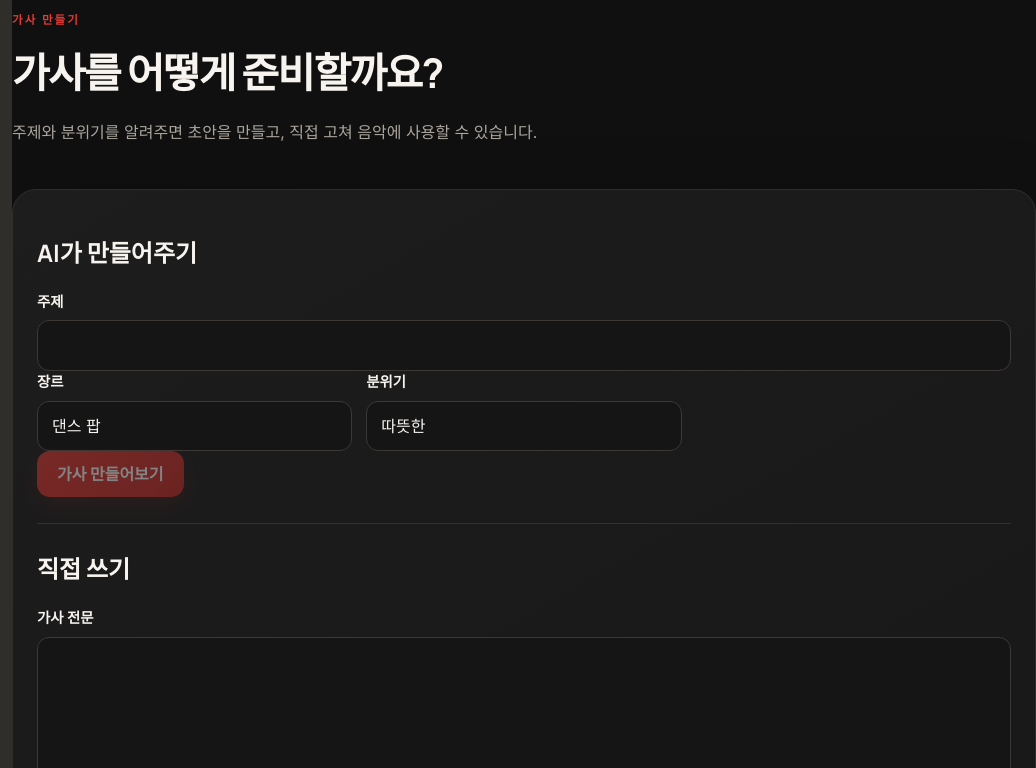
Test: Lyrics Lab 오류와 capability › 삭제 실패 시 문서를 유지하고 안전한 오류를 표시한다
Type "밤" into the field labelled "주제" at point(524, 346), box [37,320,1011,371]
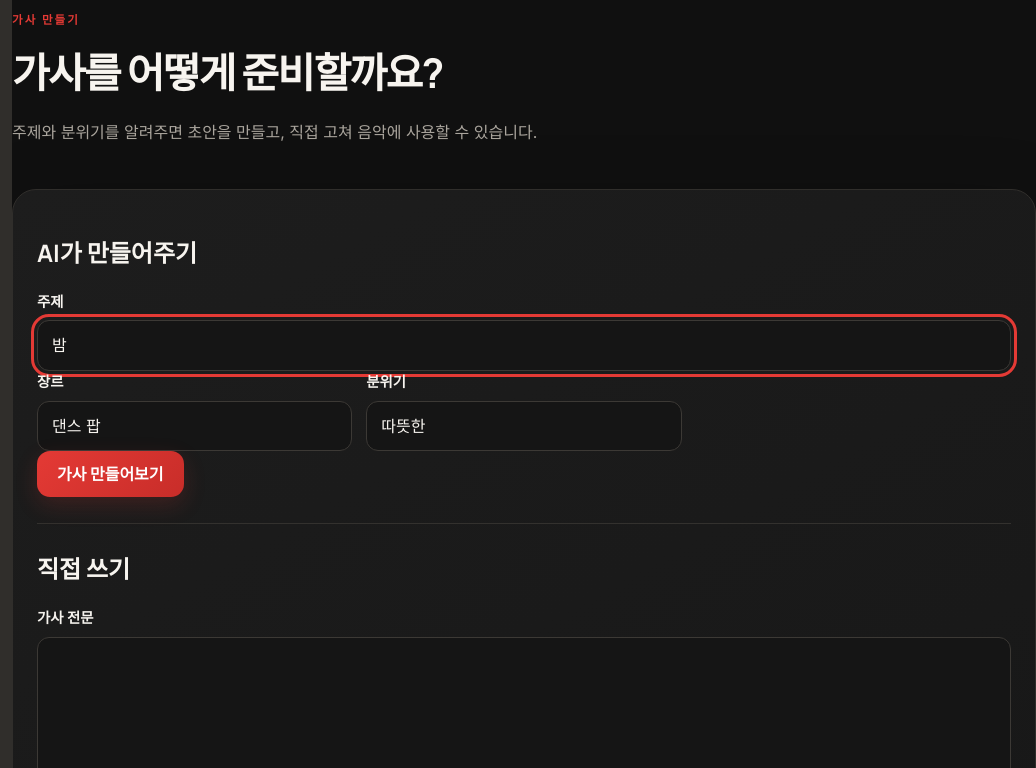
Click the button "가사 만들어보기" at point(110, 474), box [37,451,184,497]
(page scrolled)
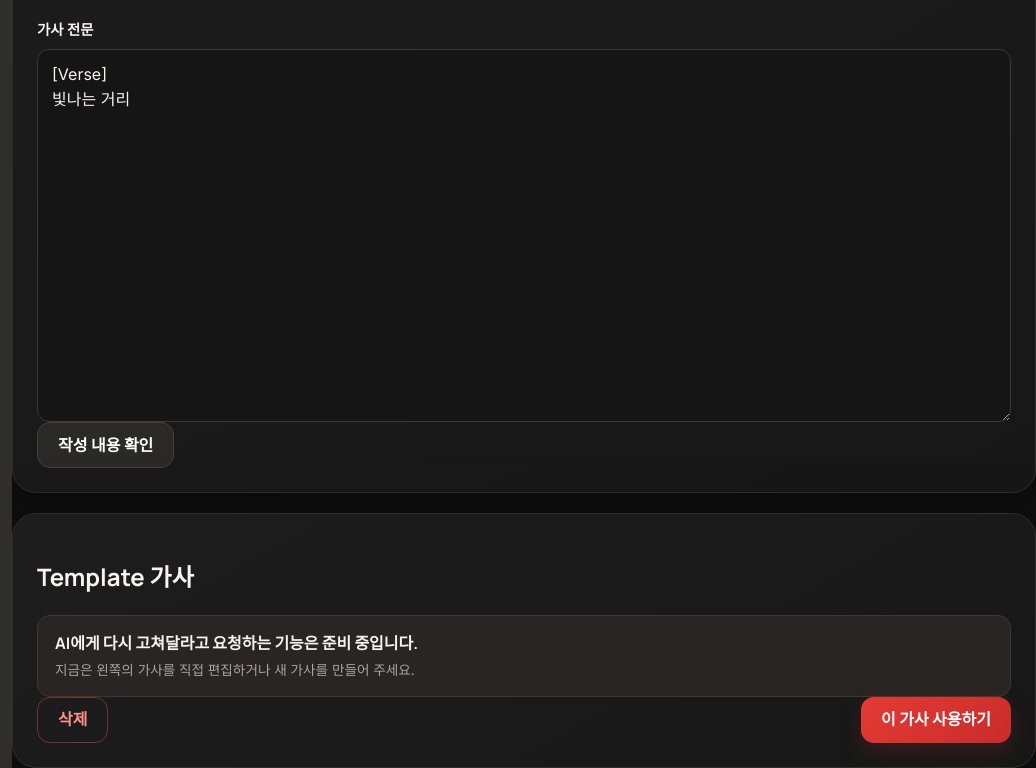
Check: the heading "Template 가사" is shown, box [37,558,194,595]
Click the button "삭제" at point(73, 720), box [37,697,108,743]
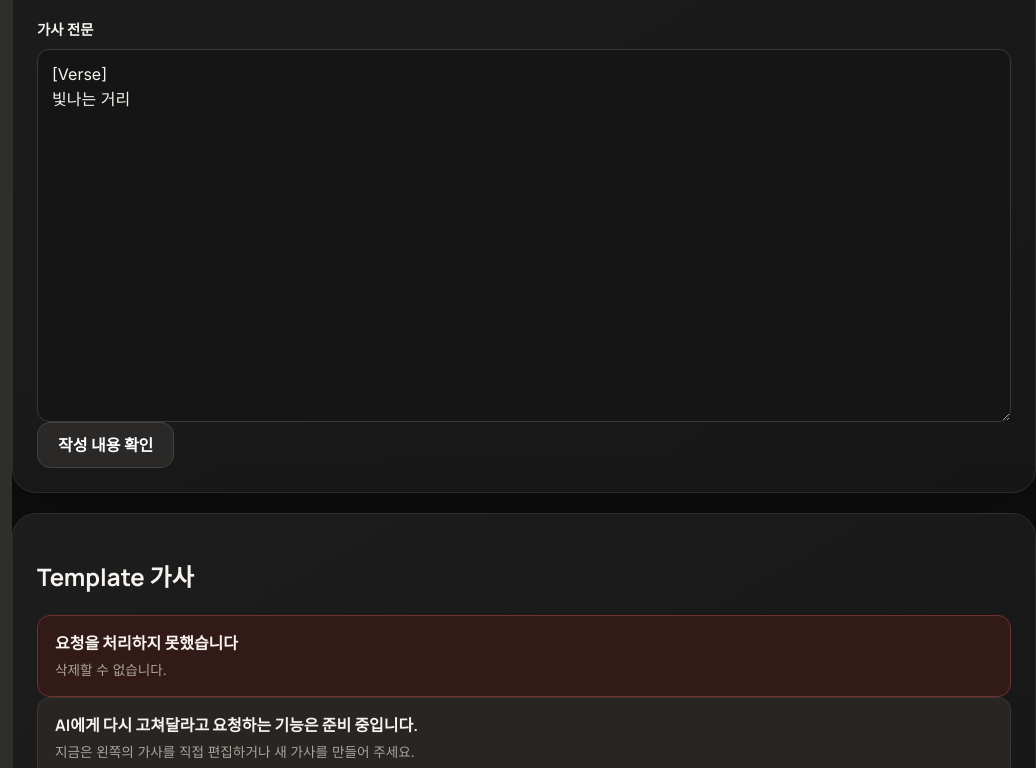
Check: the heading "Template 가사" is shown, box [37,558,194,595]
Check: the text "삭제할 수 없습니다." is shown, box [55,662,167,678]
